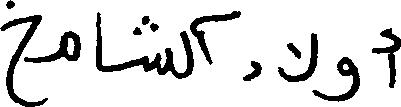X: (0, 0, 38, 106), (317, 35, 357, 106), (280, 28, 315, 100), (145, 11, 170, 79), (389, 23, 400, 92), (199, 11, 211, 69), (181, 18, 191, 83), (61, 26, 77, 65), (246, 56, 259, 85), (97, 0, 100, 106)
